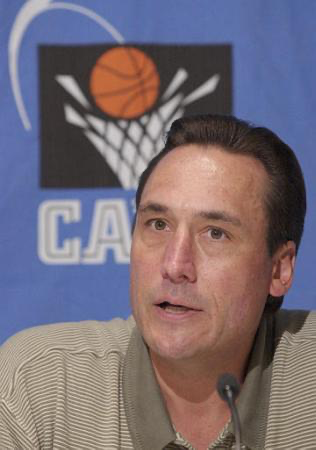Face: (127, 164, 270, 365)
